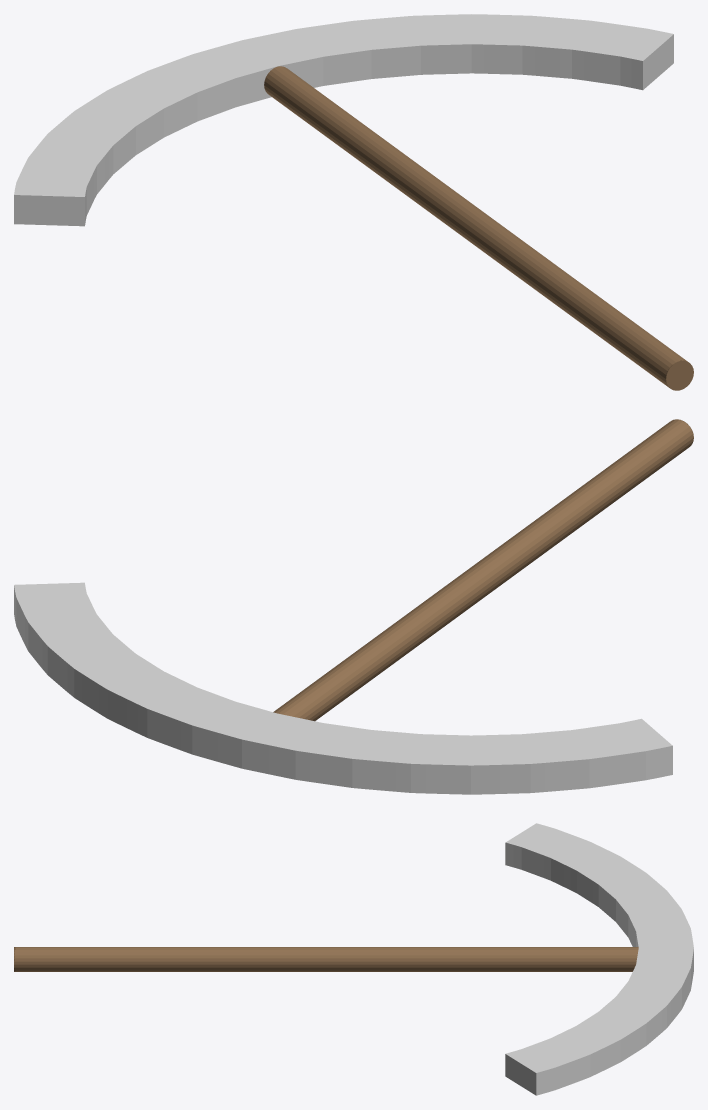
The model's file is rainbow.fbx.
3 views of the same model, one above another, from view 1: azimuth 30°, elevation 25°; view 2: azimuth 150°, elevation 25°; view 3: azimuth 270°, elevation 25° (orthographic). The views are drawn at different scales.
Parts seen in each view (by area): view 1: Plane, Cylinder; view 2: Plane, Cylinder; view 3: Plane, Cylinder.
Boxes of the visible parts, x1,y1,x2,y2 form: Plane: (14,14,673,226); Cylinder: (264,66,693,390); Plane: (14,582,672,794); Cylinder: (273,419,693,721); Plane: (505,823,693,1095); Cylinder: (14,947,638,971).
Size of the model in its own units: 23.65 by 1.01 by 27.19.
